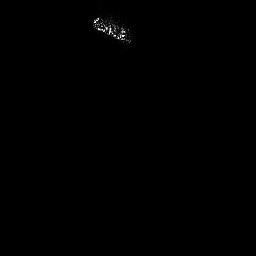ship: (91, 13, 133, 48)
